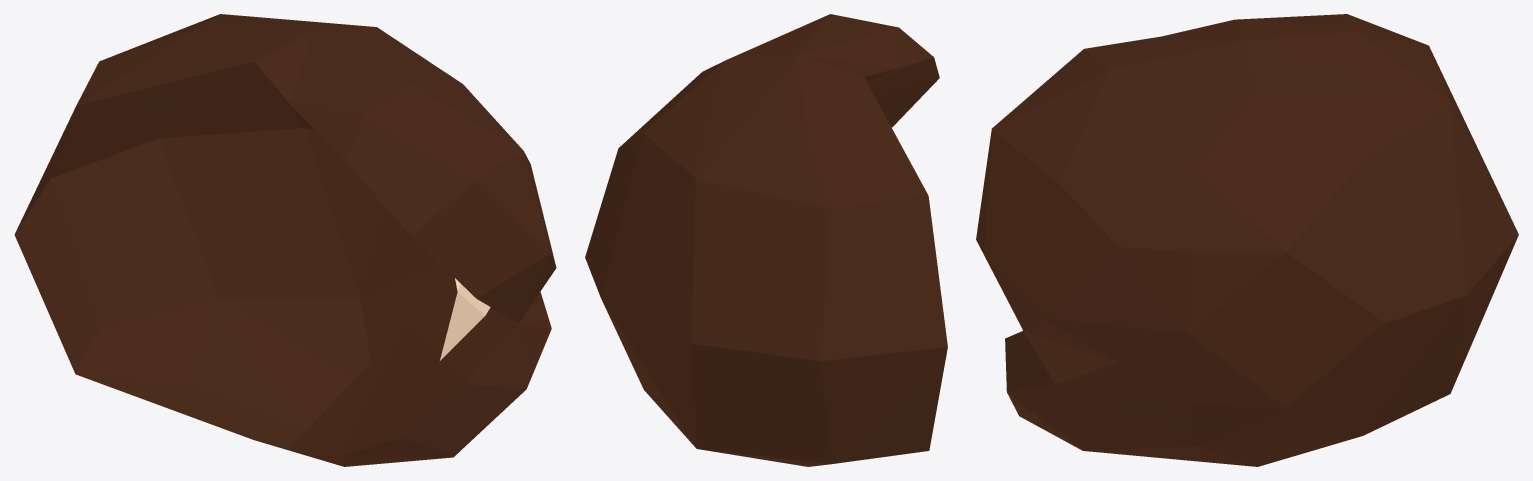
The model's file is hair16.glb.
3 views of the same model, side by side, from view 1: azimuth 30°, elevation 25°; view 2: azimuth 150°, elevation 25°; view 3: azimuth 270°, elevation 25° (orthographic). The views are drawn at different scales.
Parts seen in each view (by area): view 1: tomodachi-2026-03-13-22-18-09-042, tomodachi-2026-03-13-22-18-09-042.008; view 2: tomodachi-2026-03-13-22-18-09-042; view 3: tomodachi-2026-03-13-22-18-09-042.
Part boxes in pixels (bbox=[...]): tomodachi-2026-03-13-22-18-09-042: bbox=[14, 14, 556, 466]; tomodachi-2026-03-13-22-18-09-042.008: bbox=[439, 278, 490, 361]; tomodachi-2026-03-13-22-18-09-042: bbox=[585, 14, 947, 466]; tomodachi-2026-03-13-22-18-09-042: bbox=[976, 14, 1518, 466].
Bounding box in the file's own units: 1.17 × 1.1 × 1.32.
2 materials, 2 textured.
